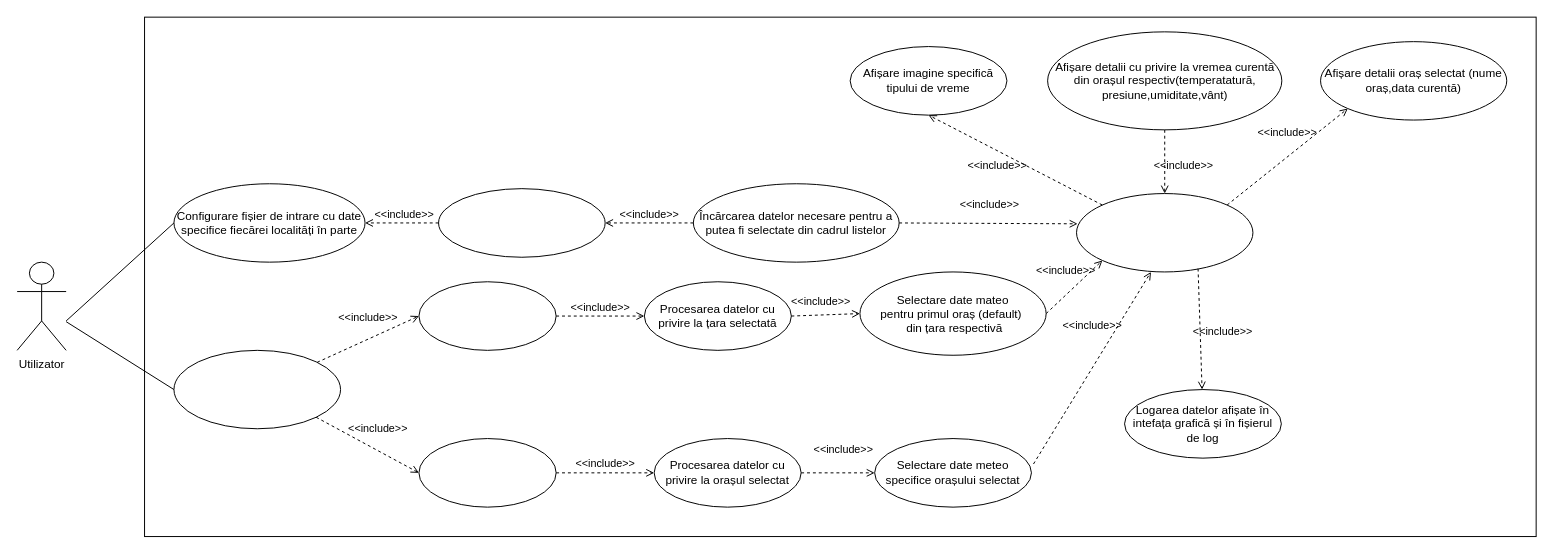
Image size: 1553x554. Some labels were removed from this diagram. The shapes that lost their labels are listed below. From the top down, each one's centre as x and y in pixels, then its label:
point 521,222: Citirea, procesarea și salvarea datelor
point 1164,232: Afișare date specifice în interfața grafică
point 487,315: Selectare țară
point 257,389: Selectare opțiuni dorite
point 487,472: Selectare oraș
